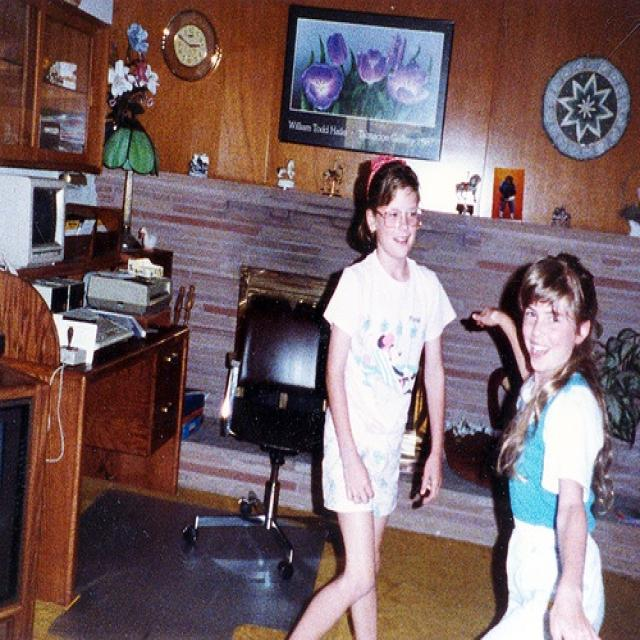chair: (187, 328, 337, 580)
person: (290, 157, 467, 640), (475, 253, 609, 639)
tvmonitor: (1, 175, 74, 267)
